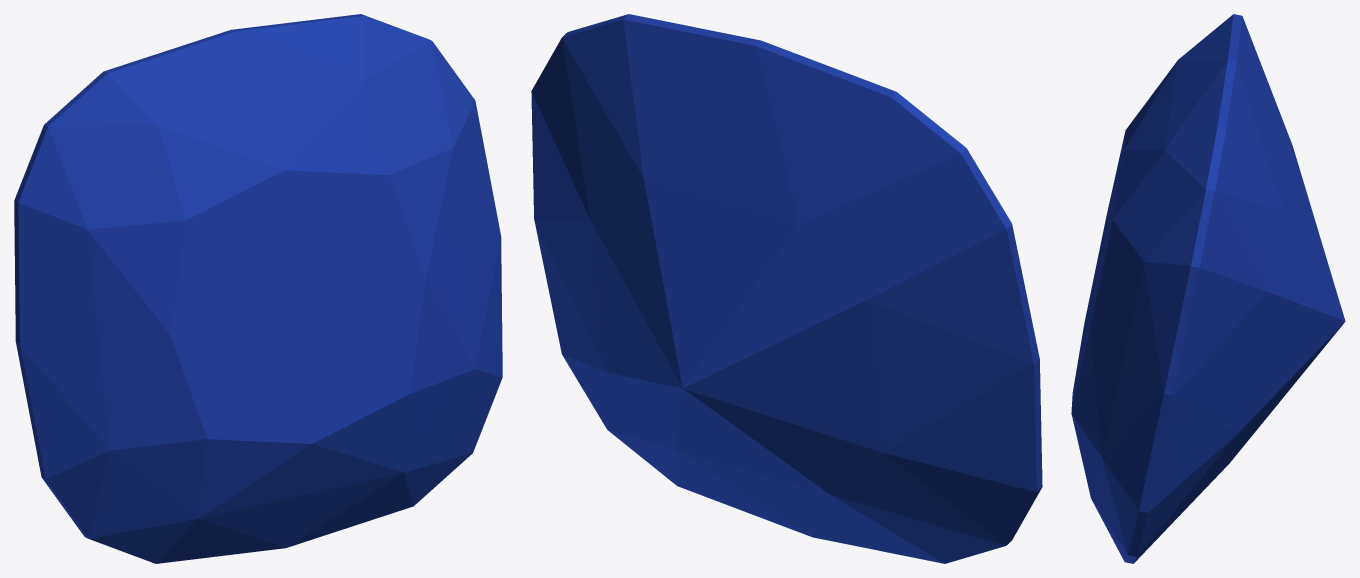
File: sapphire.glb
3 views of the same model, side by side, from view 1: azimuth 30°, elevation 25°; view 2: azimuth 150°, elevation 25°; view 3: azimuth 270°, elevation 25° (orthographic). The views are drawn at different scales.
Visible parts, largest first — view 1: sapphire; view 2: sapphire; view 3: sapphire.
Part boxes in pixels (left/top/right/bottom): sapphire: left=14, top=14, right=502, bottom=563; sapphire: left=531, top=14, right=1042, bottom=563; sapphire: left=1071, top=14, right=1345, bottom=563.
Bounding box in the file's own units: 2.3 × 2.27 × 1.23.
